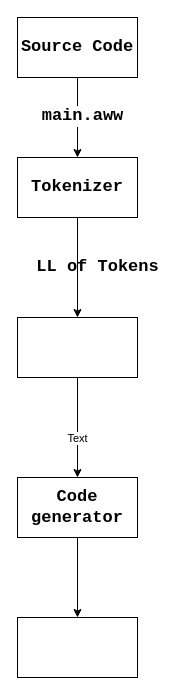
This 176x695 diagram has some shape labels left out. The centre of each missing label's shape, as x and y in pixels:
"NASM > LD > executable" goes at (x=77, y=647).
"Parser" goes at (x=77, y=347).
